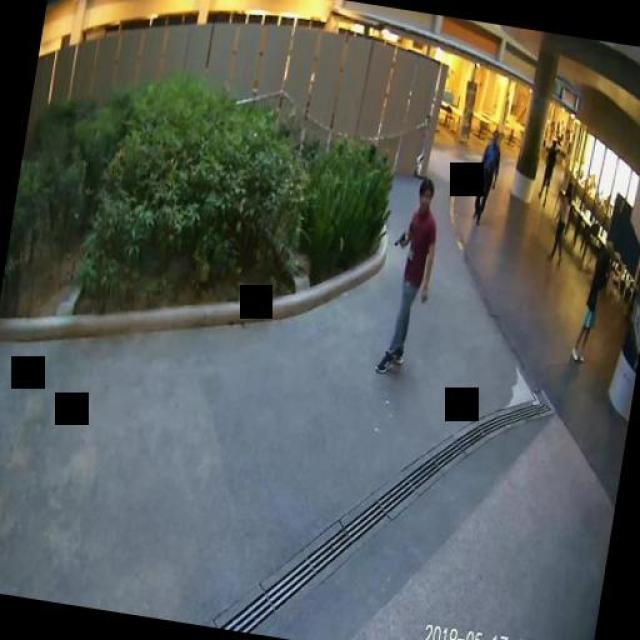gun: (391, 230, 405, 246)
